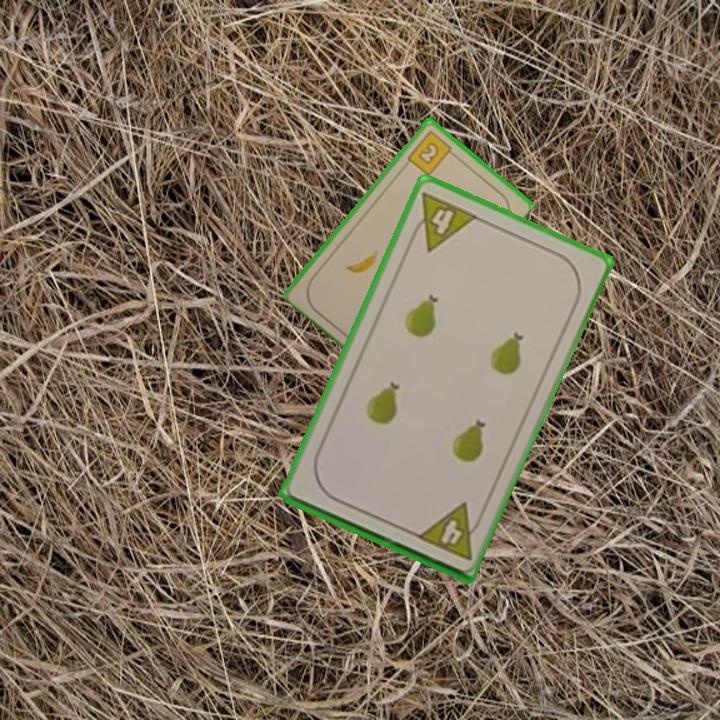2b: (403, 126, 458, 178)
4p: (404, 188, 481, 255), (412, 499, 487, 563)
